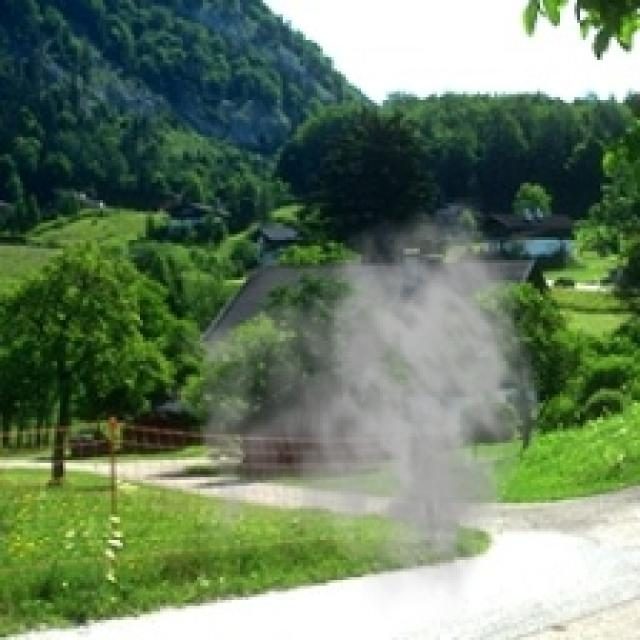smoke: (166, 197, 543, 623)
